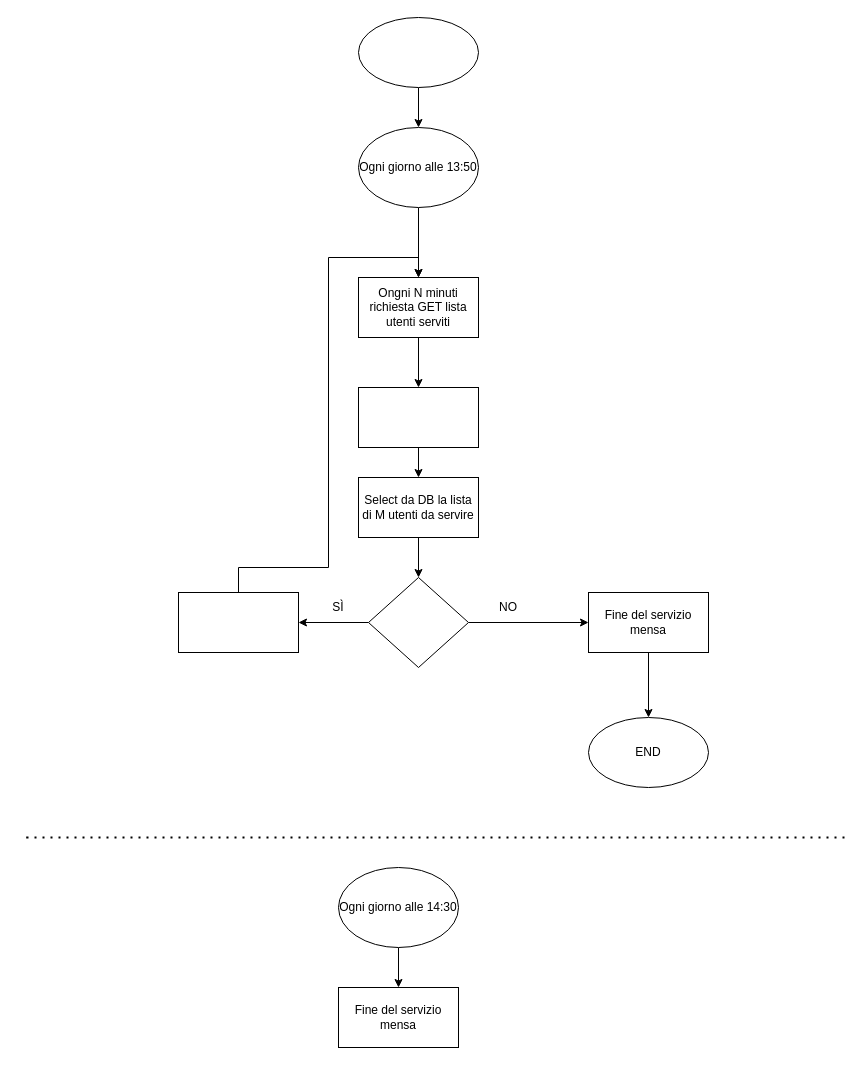
Some shapes in this 867 by 1065 pixel diagram are drawn without their labels. Here are the shapes that lost their labels. From the top down, the box of each, then its label:
(358, 16, 478, 88): START
(358, 386, 478, 448): Per ogni utente del DB da servire = falso
(178, 592, 298, 652): Per ogni utente invia notifica privata (tid)
(368, 576, 468, 668): Ci sono utenti da servire
